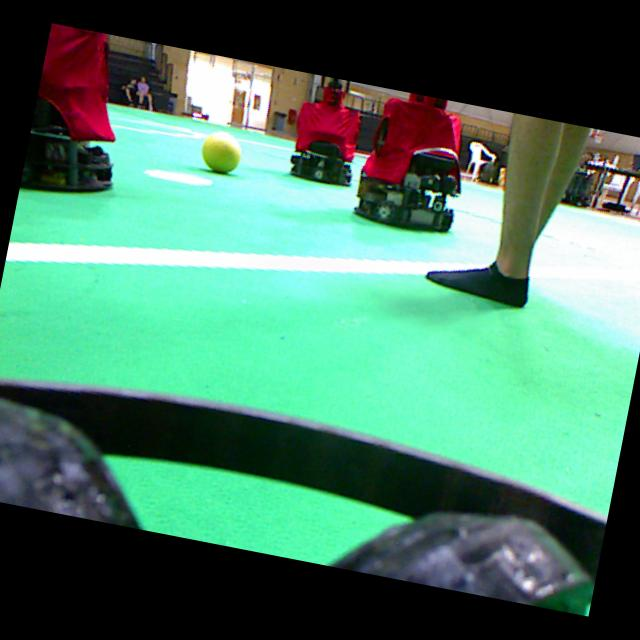ball: (202, 131, 240, 173)
